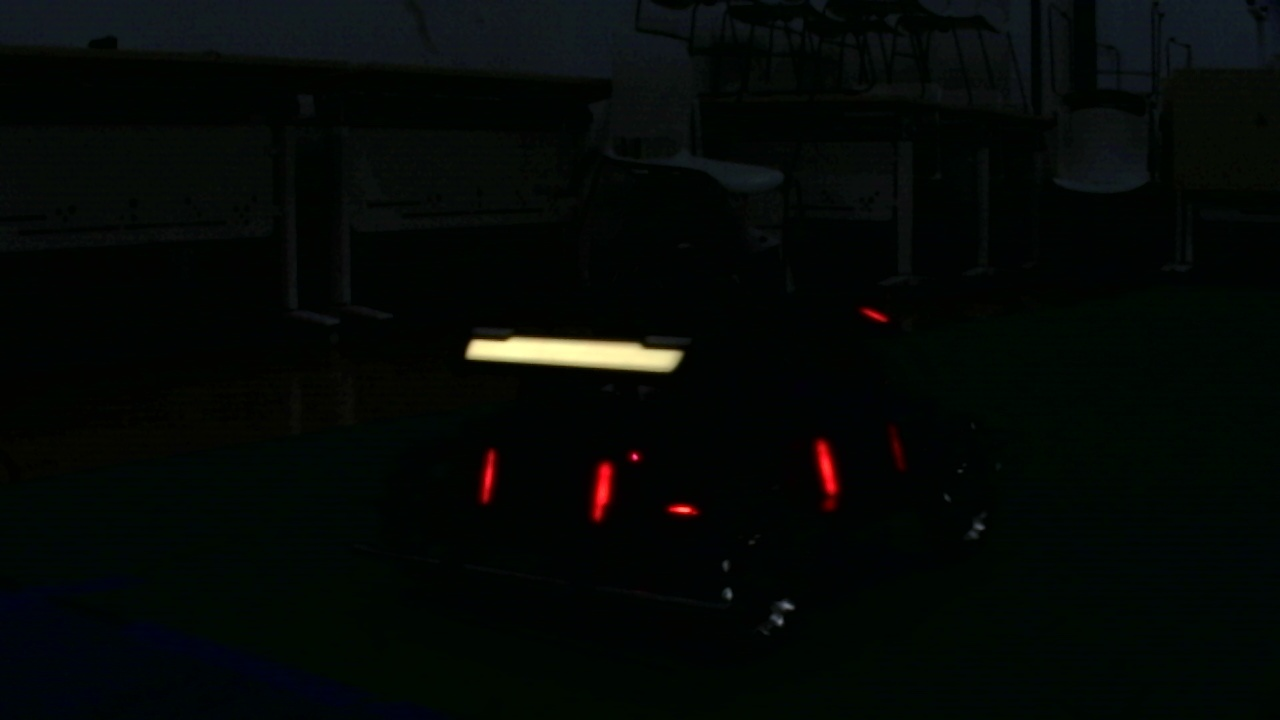lamp: (813, 435, 842, 504), (589, 461, 611, 524), (481, 444, 497, 511)
notpair1: (590, 435, 841, 525)
pair1: (480, 453, 612, 525)
